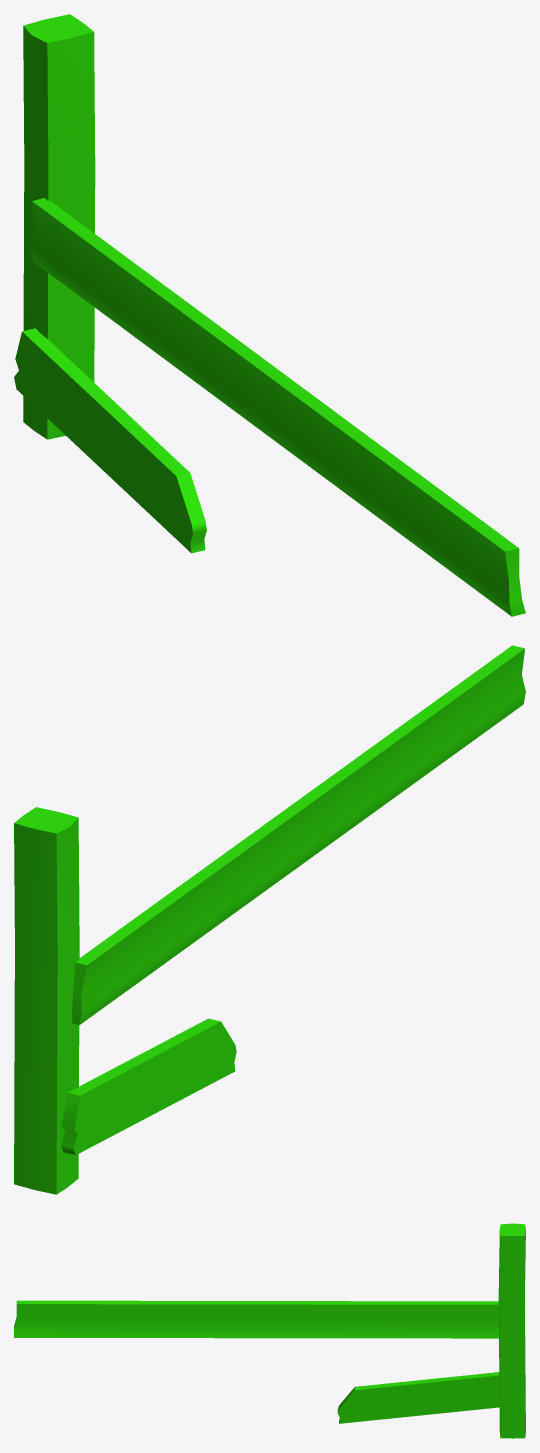
Rendered from Farm_Fence_01D.fbx.
3 views of the same model, one above another, from view 1: azimuth 30°, elevation 25°; view 2: azimuth 150°, elevation 25°; view 3: azimuth 270°, elevation 25° (orthographic). The views are drawn at different scales.
Parts seen in each view (by area): view 1: Farm_Fence_01D; view 2: Farm_Fence_01D; view 3: Farm_Fence_01D.
Boxes of the visible parts, x1=… form: Farm_Fence_01D: x1=14, y1=14, x2=525, y2=616; Farm_Fence_01D: x1=14, y1=645, x2=525, y2=1194; Farm_Fence_01D: x1=14, y1=1223, x2=525, y2=1438.
Bounding box in the file's own units: 22.68 × 134 × 308.
